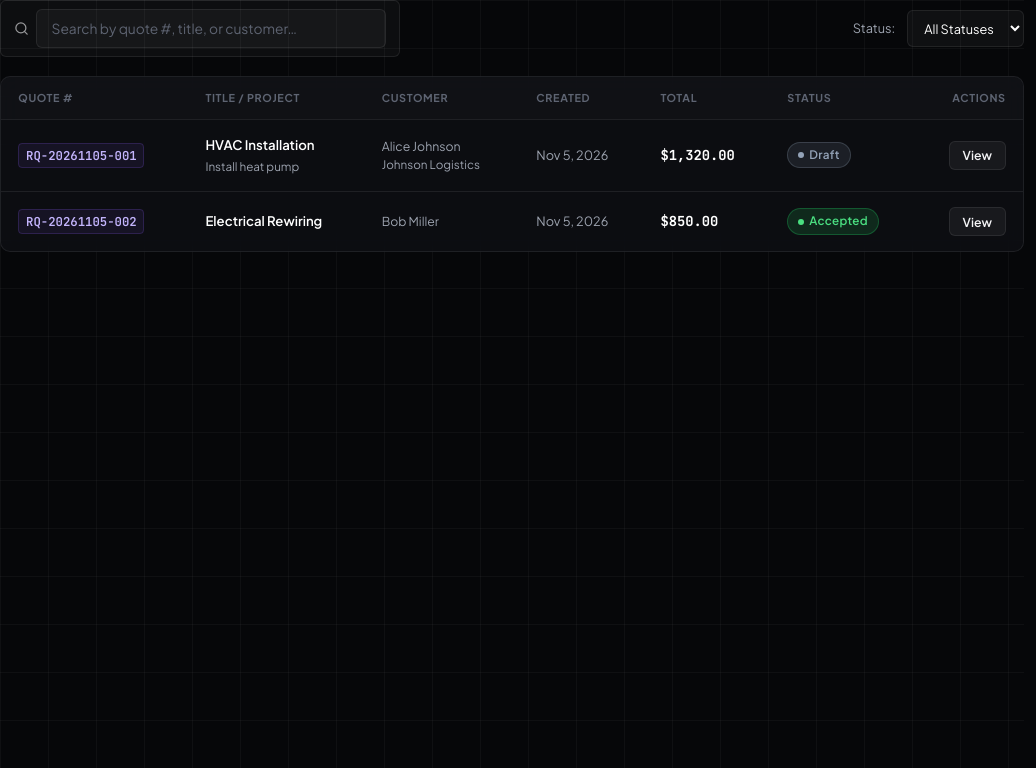
Test: QuotationTable › filters rows by status dropdown
Select "Accepted" in the dropdown named "filter quotations by status" at (965, 29), box [906,10,1024,47]
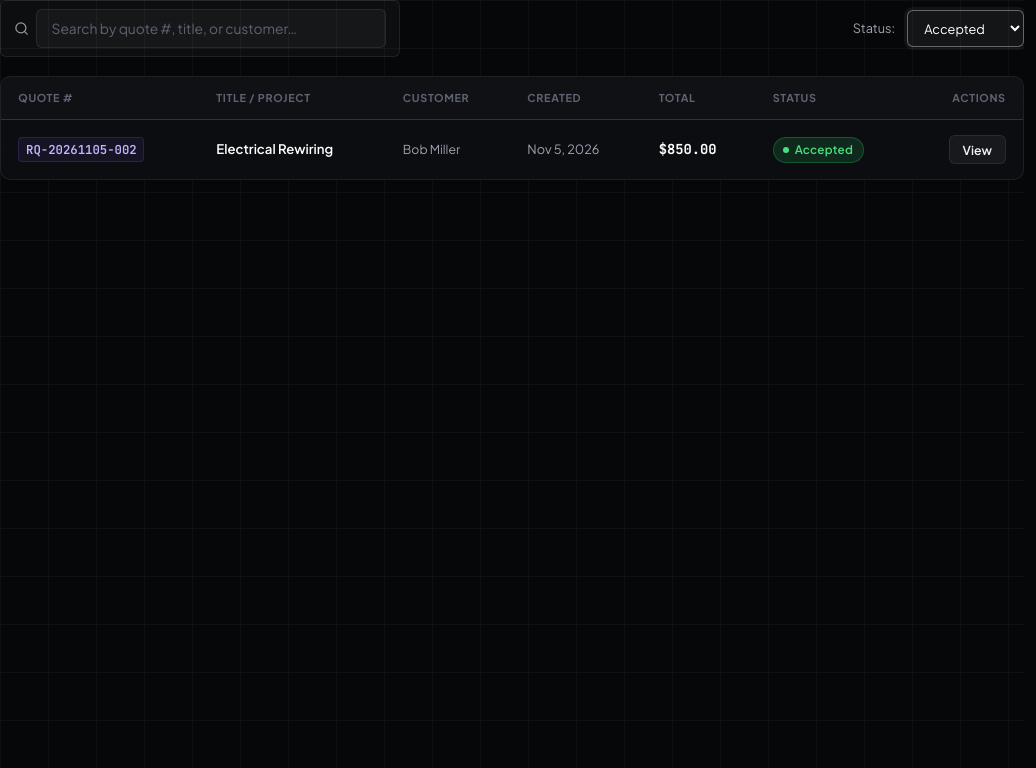
Check: the text "Electrical Rewiring" is shown, box [216,140,333,157]
Check: the link "HVAC Installation" is gone
